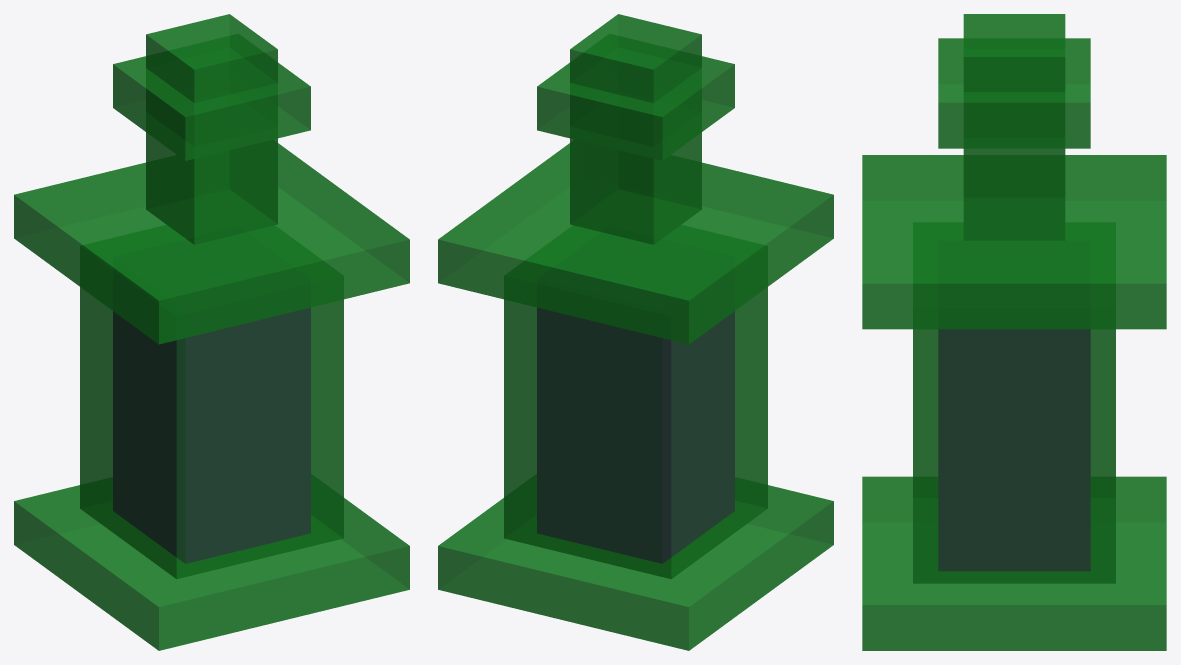
The model's file is BarBottle.fbx.
3 renders of one model, left to right at view 1: azimuth 30°, elevation 25°; view 2: azimuth 150°, elevation 25°; view 3: azimuth 270°, elevation 25°, orthographic. The views are drawn at different scales.
Visible parts, largest first — view 1: MainBottle, pCube6, pCube3, pCube2, pCube1, pCube5; view 2: MainBottle, pCube6, pCube3, pCube2, pCube1, pCube5; view 3: MainBottle, pCube3, pCube2, pCube6, pCube1, pCube5.
Part boxes in pixels (x1,y1,x2,y2): MainBottle: (80,225,343,579); pCube6: (113,308,310,563); pCube3: (14,143,409,344); pCube2: (14,485,409,650); pCube1: (146,14,277,244); pCube5: (113,48,310,160); MainBottle: (504,225,767,579); pCube6: (537,308,734,563); pCube3: (438,143,833,344); pCube2: (438,485,833,650); pCube1: (570,14,701,244); pCube5: (537,48,734,160); MainBottle: (913,222,1115,583); pCube3: (862,155,1166,329); pCube2: (862,476,1166,650); pCube6: (938,329,1090,570); pCube1: (963,14,1065,240); pCube5: (938,38,1090,148).
Size of the model in its own units: 0.6 by 1.2 by 0.6.
